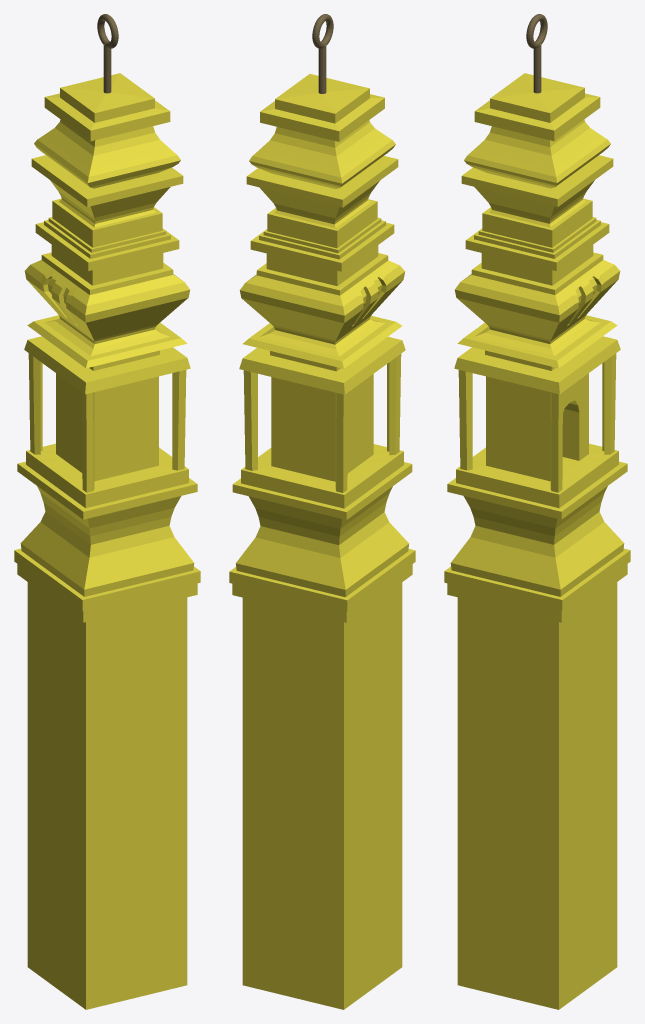
Rendered from Area2.Pillar2.fbx.
The picture shows the model from 3 angles, left to right: view 1: azimuth 30°, elevation 25°; view 2: azimuth 150°, elevation 25°; view 3: azimuth 330°, elevation 25°; orthographic projection.
Visible parts, largest first — view 1: Torus; view 2: Torus; view 3: Torus.
Part boxes in pixels (left/top/right/bottom): Torus: left=14, top=14, right=200, bottom=1009; Torus: left=229, top=14, right=415, bottom=1009; Torus: left=444, top=14, right=630, bottom=1009.
Bounding box in the file's own units: 227 × 1765 × 227.
